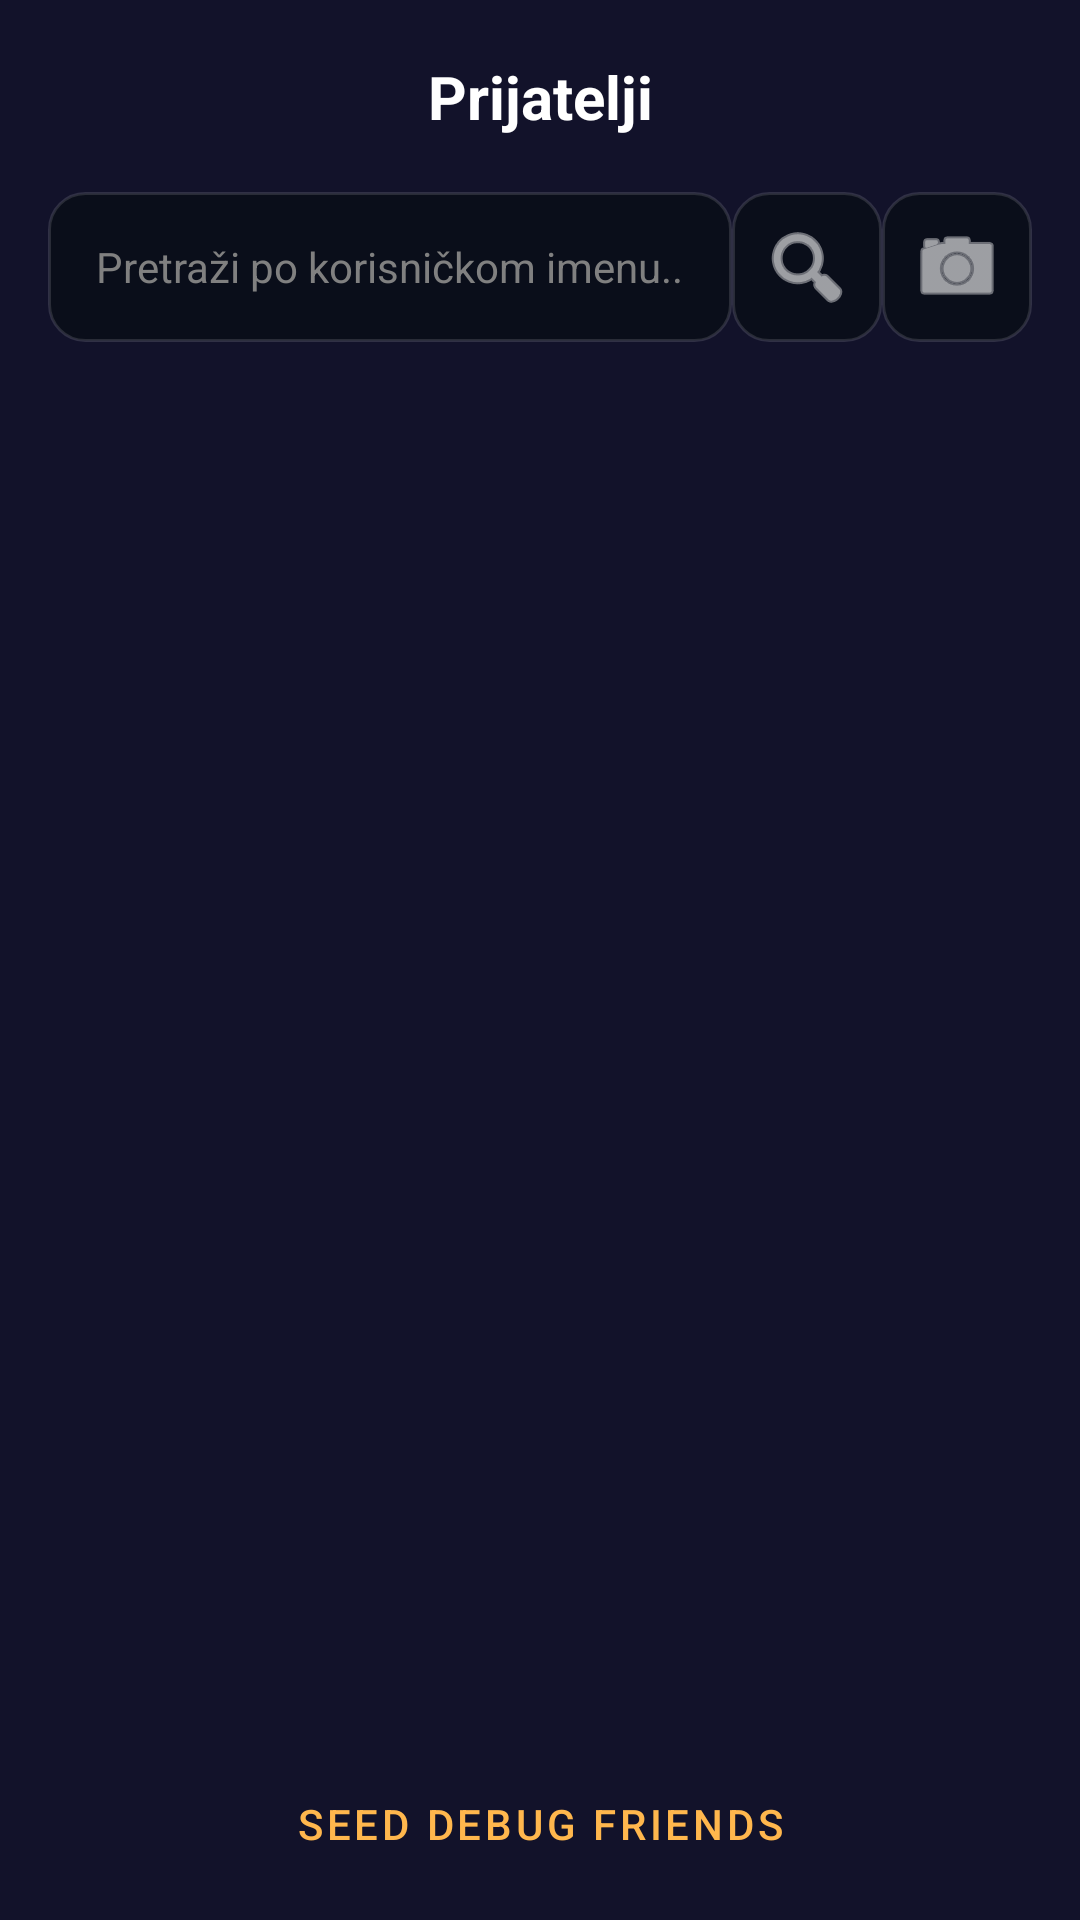

Icons on this 1080 × 1920 Android screen, each with its box as {"x1": x1, "y1": y1, "x2": x2, "y2": y2}:
camera: {"x1": 920, "y1": 236, "x2": 994, "y2": 295}
search: {"x1": 732, "y1": 192, "x2": 882, "y2": 342}
